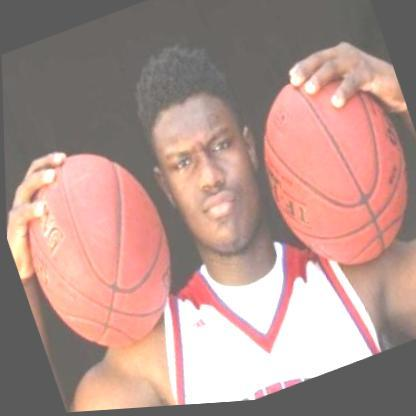basketball: (3, 122, 203, 378), (230, 42, 416, 298)
